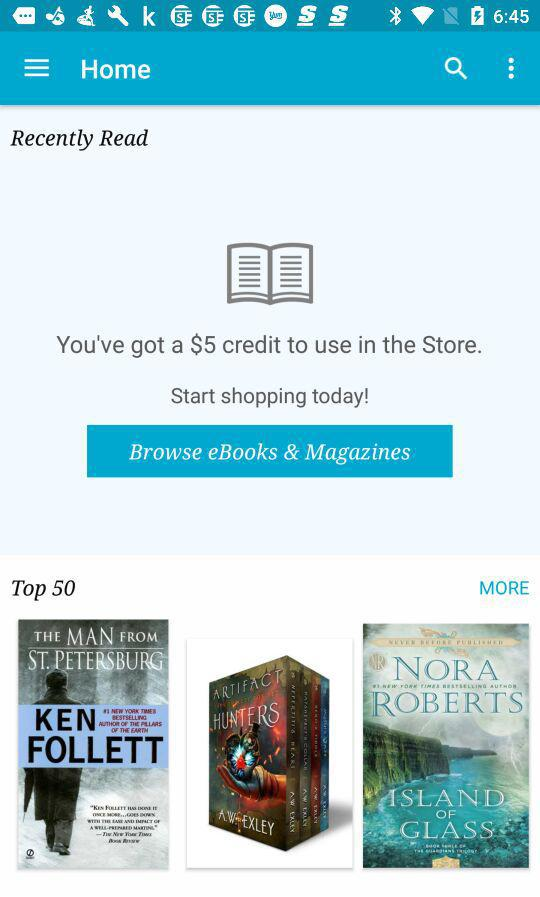Icon: (444, 57, 468, 81), (24, 59, 51, 78), (508, 58, 515, 81)
Image: (363, 624, 529, 868), (17, 619, 170, 870), (187, 639, 353, 868), (226, 243, 314, 307)
Text: (57, 334, 482, 359), (171, 387, 369, 410), (10, 129, 150, 153), (12, 579, 77, 602), (82, 60, 152, 81), (479, 580, 530, 596)
TextButton: (87, 425, 454, 479)
Toolbar: (1, 33, 540, 106)
UpperTaskBar: (1, 1, 540, 33)
